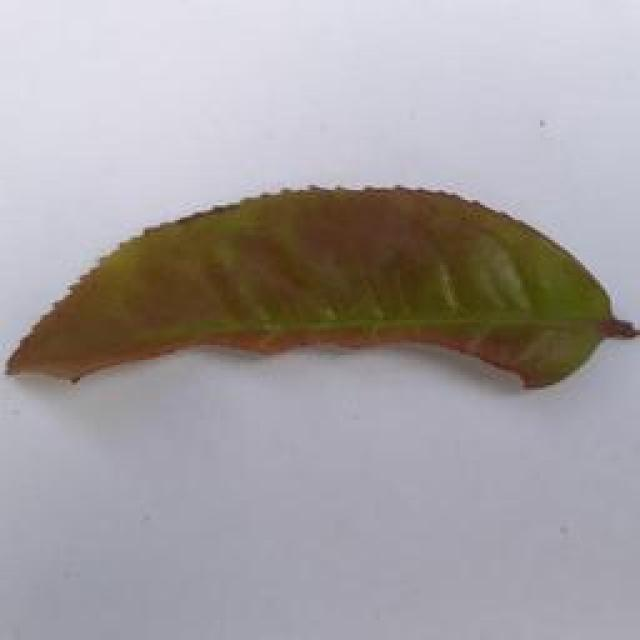Red Leaf Spot: (2, 174, 640, 428)
